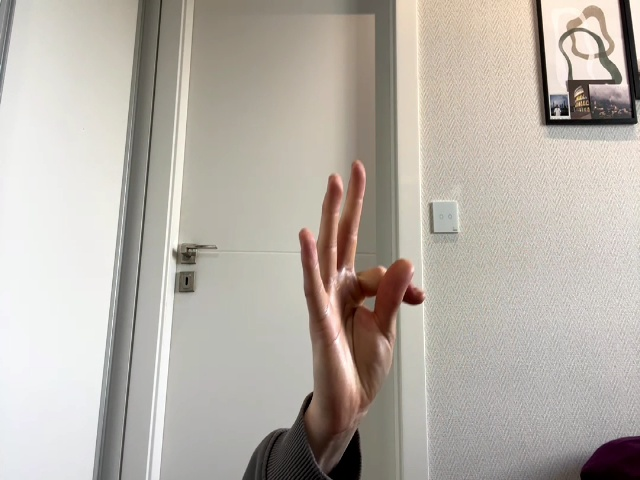T: (299, 161, 425, 414)
